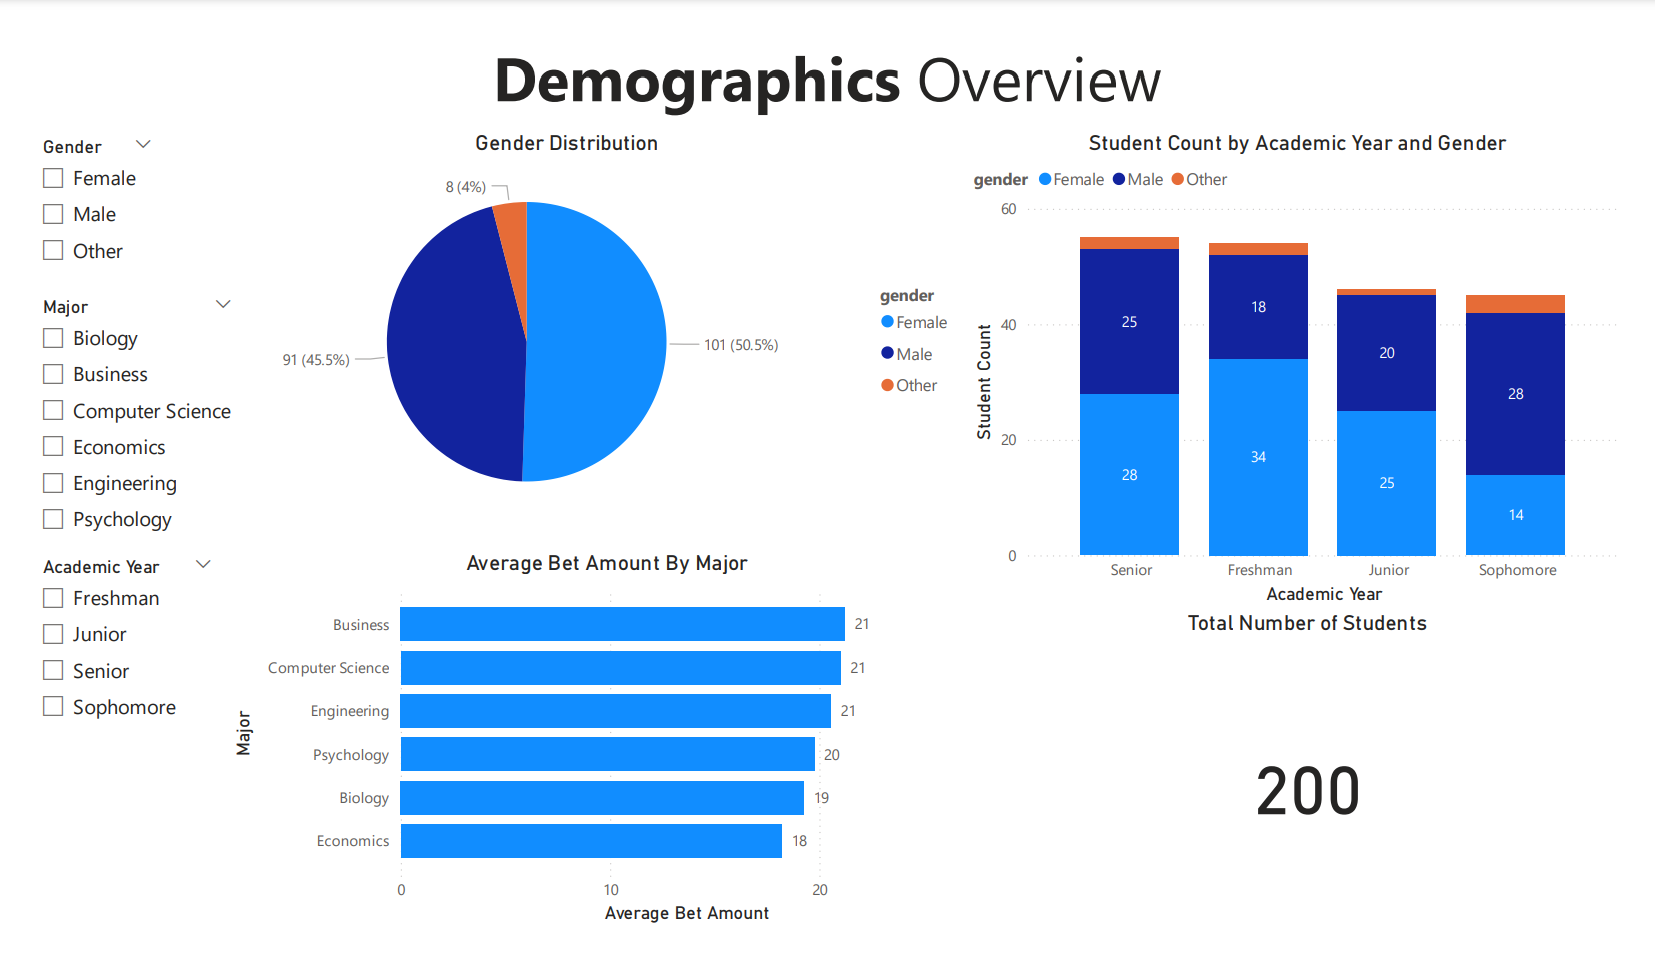

The page's visual inventory and layout, read from the dashboard file:
{"tool":"powerbi","page":{"name":"Demographics Overview","canvas":[1280,720],"ordinal":0},"visuals":[{"type":"pieChart","title":"Gender Distribution","fields":{"Category":["finalized_student_sports_betting_data.gender"],"Y":["CountNonNull(finalized_student_sports_betting_data.student_id)"]},"box":[112,80,640,320],"z":0},{"type":"columnChart","title":"Student Count by Academic Year and Gender","fields":{"Category":["finalized_student_sports_betting_data.academic_year"],"Series":["finalized_student_sports_betting_data.gender"],"Y":["CountNonNull(finalized_student_sports_betting_data.student_id)"]},"box":[752,80,528,384],"z":1000},{"type":"clusteredBarChart","title":"Average Bet Amount By Major","fields":{"Category":["finalized_student_sports_betting_data.major"],"Y":["Avg(finalized_student_sports_betting_data.avg_bet_amount)"]},"box":[160,416,608,304],"z":2000},{"type":"card","title":"Total Number of Students","fields":{"Values":["CountNonNull(finalized_student_sports_betting_data.student_id)"]},"box":[768,464,512,256],"z":3000},{"type":"textbox","box":[0,0,1280,80],"z":4000},{"type":"slicer","fields":{"Values":["finalized_student_sports_betting_data.major"]},"box":[0,208,176,208],"z":4001},{"type":"slicer","fields":{"Values":["finalized_student_sports_betting_data.gender"]},"box":[0,80,112,128],"z":4002},{"type":"slicer","fields":{"Values":["finalized_student_sports_betting_data.academic_year"]},"box":[0,416,160,160],"z":4003}]}

Visuals, with their boxes in screenshot pixels (x1, y1, x2, y2), scaled from the page's 1280x720 canvas onto the 1655x958 screenshot:
"Gender Distribution" pieChart: 145/106/972/532
"Student Count by Academic Year and Gender" columnChart: 972/106/1654/617
"Average Bet Amount By Major" clusteredBarChart: 207/554/993/957
"Total Number of Students" card: 993/617/1654/957
textbox: 0/0/1654/106
slicer - finalized_student_sports_betting_data.major: 0/277/228/554
slicer - finalized_student_sports_betting_data.gender: 0/106/145/277
slicer - finalized_student_sports_betting_data.academic_year: 0/554/207/766
